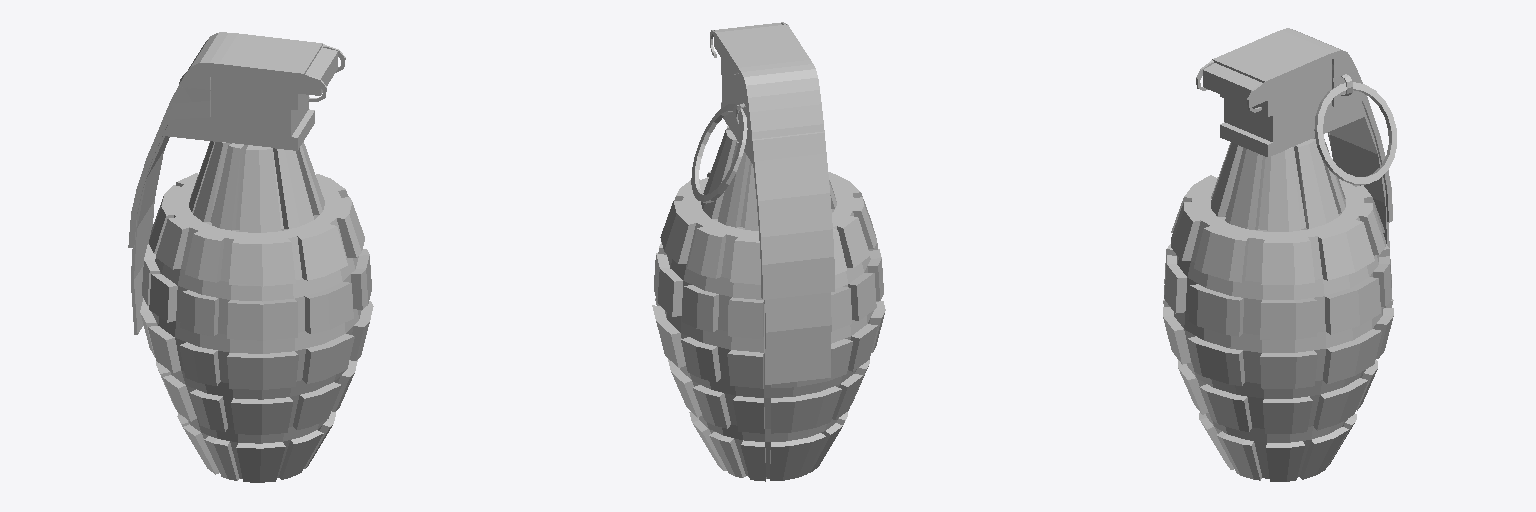
File: grenade.obj
3 renders of one model, left to right at view 1: azimuth 30°, elevation 25°; view 2: azimuth 150°, elevation 25°; view 3: azimuth 270°, elevation 25°, orthographic.
Parts seen in each view (by area): view 1: Grenade; view 2: Grenade; view 3: Grenade.
Boxes of the visible parts, box(x1,y1,x2,y2) form: Grenade: box(128, 32, 373, 482); Grenade: box(652, 22, 885, 481); Grenade: box(1163, 28, 1396, 481).
Bounding box in the file's own units: 9.38 × 18.25 × 9.52.